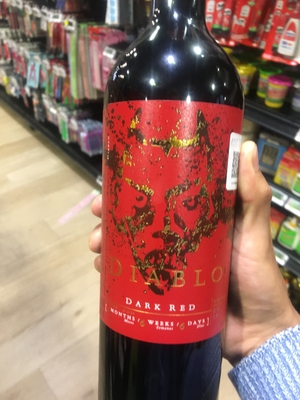diablo dark red: (102, 19, 240, 400)
